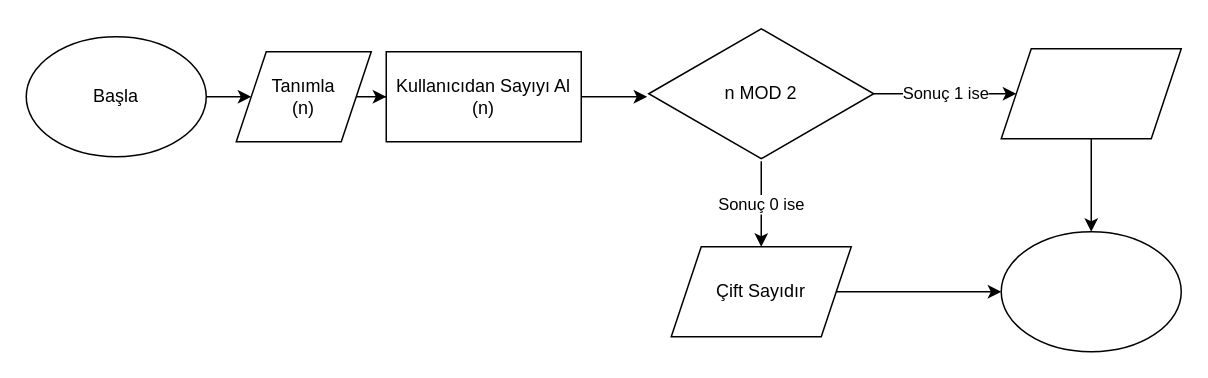
Image size: 1208x378. Some labels were removed from this diagram. Each missing label, with the centre of its shape:
"Bitir" goes at pixel 1090 291.
"Tek Sayıdır" goes at pixel 1090 93.
